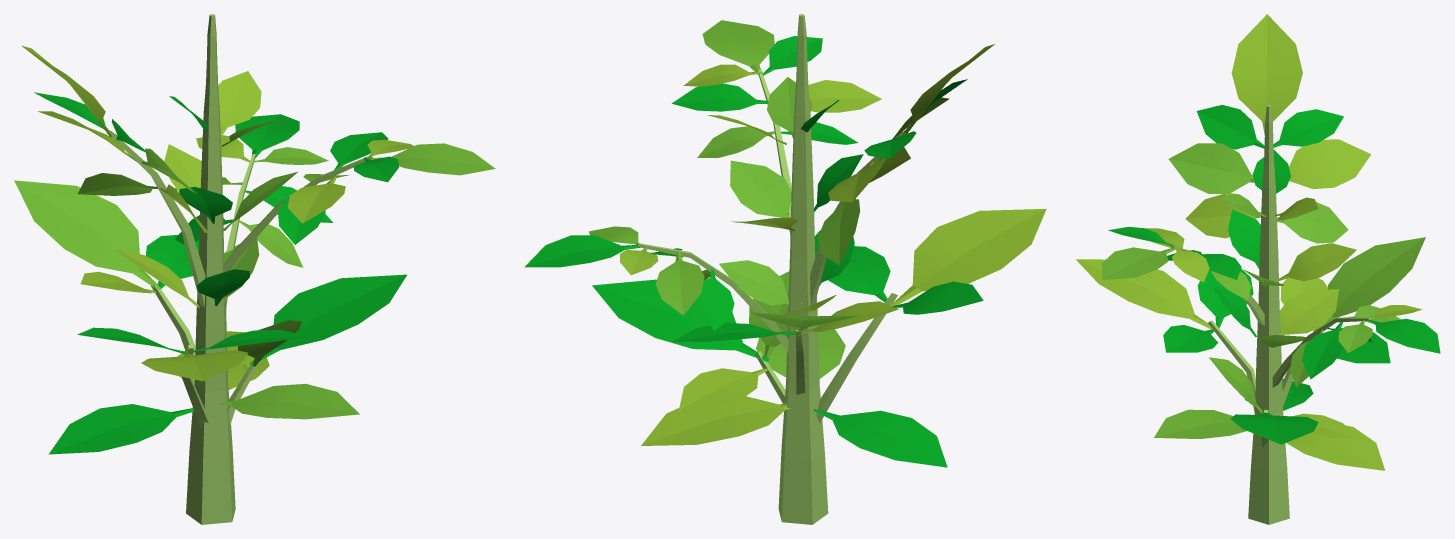
File: mesh_stage3bush01.fbx
The picture shows the model from 3 angles, left to right: view 1: azimuth 30°, elevation 25°; view 2: azimuth 150°, elevation 25°; view 3: azimuth 270°, elevation 25°; orthographic projection. The views are drawn at different scales.
Visible parts, largest first — view 1: mesh_stage3bush01; view 2: mesh_stage3bush01; view 3: mesh_stage3bush01.
Boxes of the visible parts, x1,y1,x2,y2 form: mesh_stage3bush01: [14, 14, 495, 524]; mesh_stage3bush01: [524, 14, 1046, 524]; mesh_stage3bush01: [1076, 14, 1440, 524].
Size of the model in its own units: 0.6659 by 0.8323 by 0.6489.
